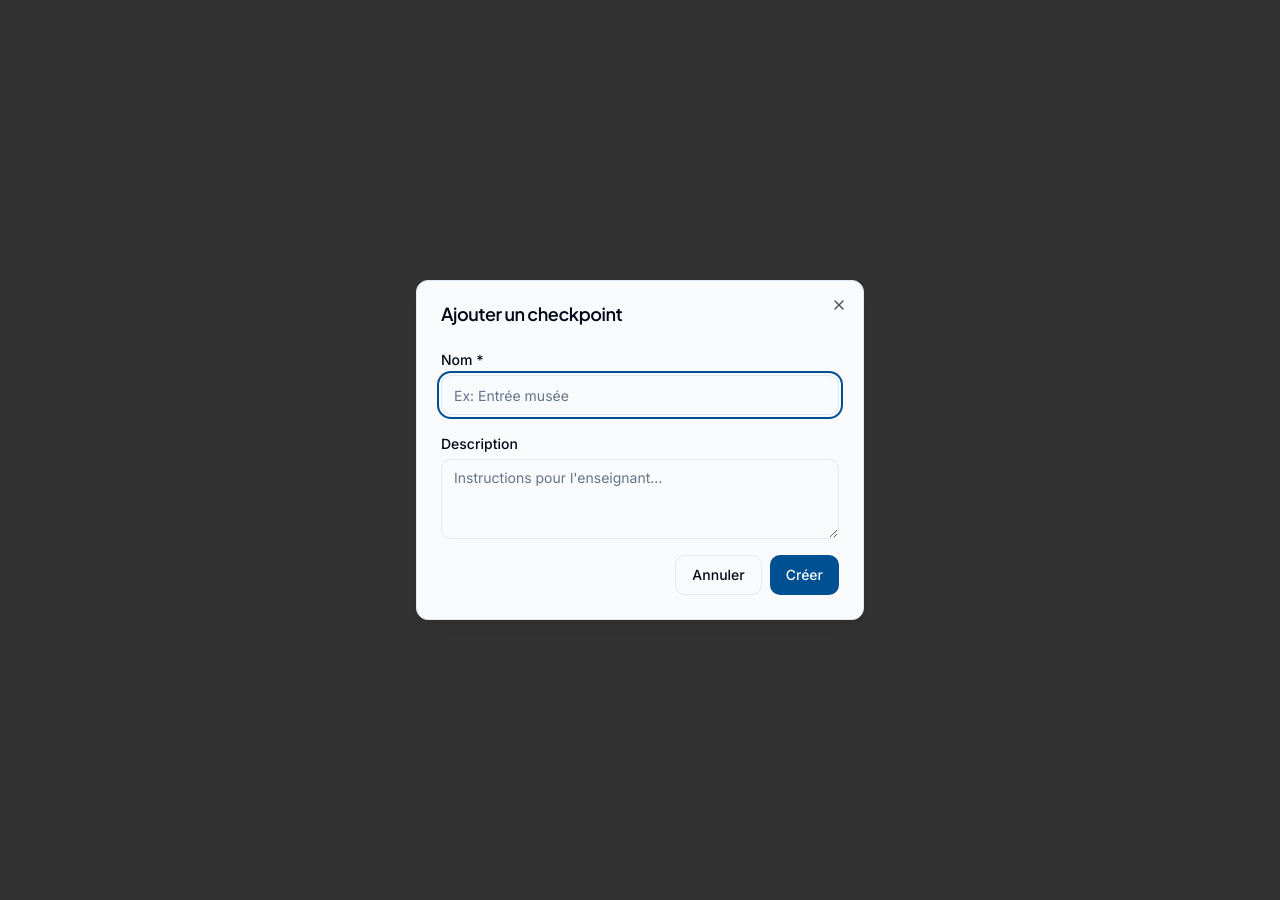
CreateCheckpointDialog › affiche une erreur de validation si le nom est vide
This screenshot has width=1280, height=900.
Click the button "Créer" at (804, 575), box [770,555,839,595]
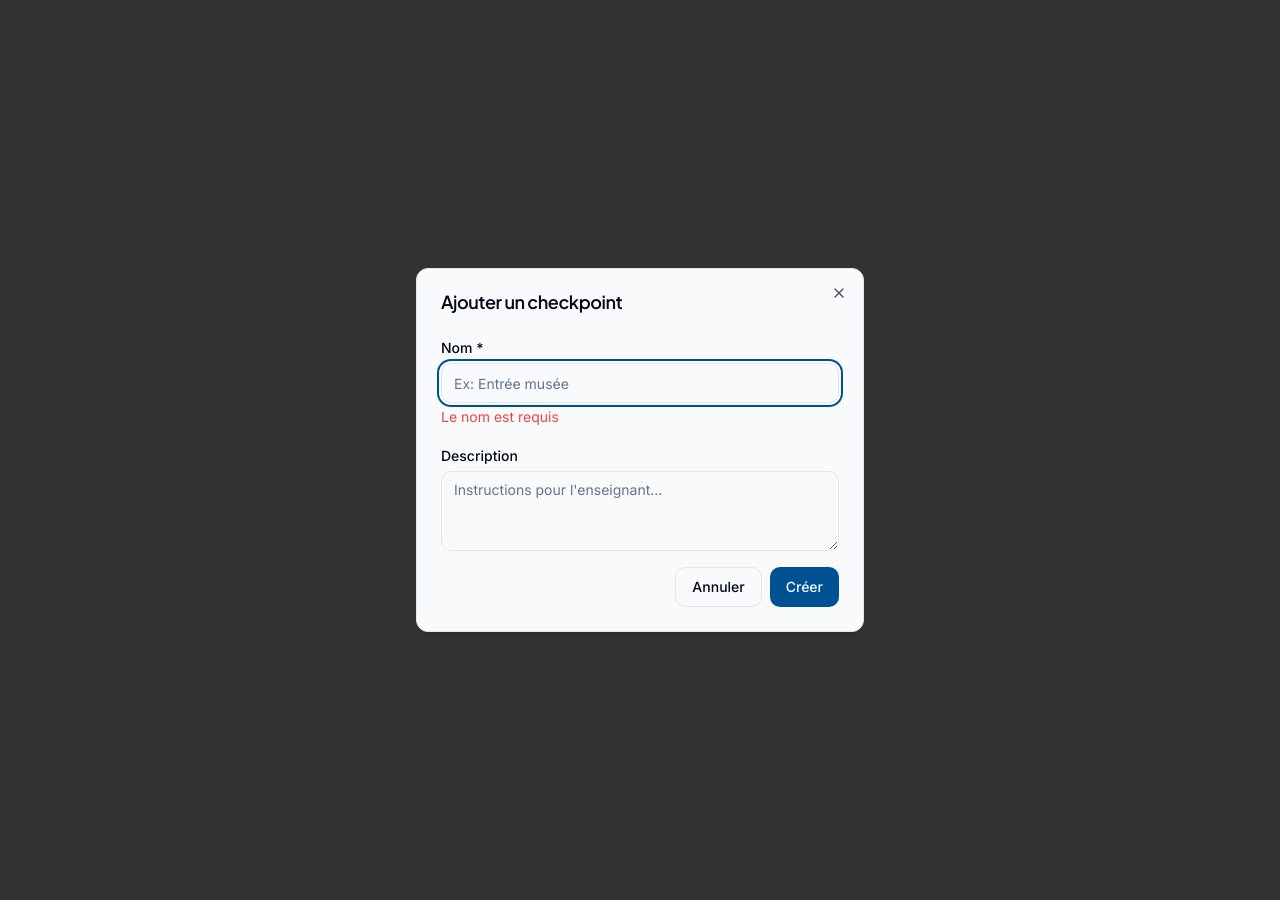
Expected: the text "Le nom est requis" is shown, [441,408,559,425]
